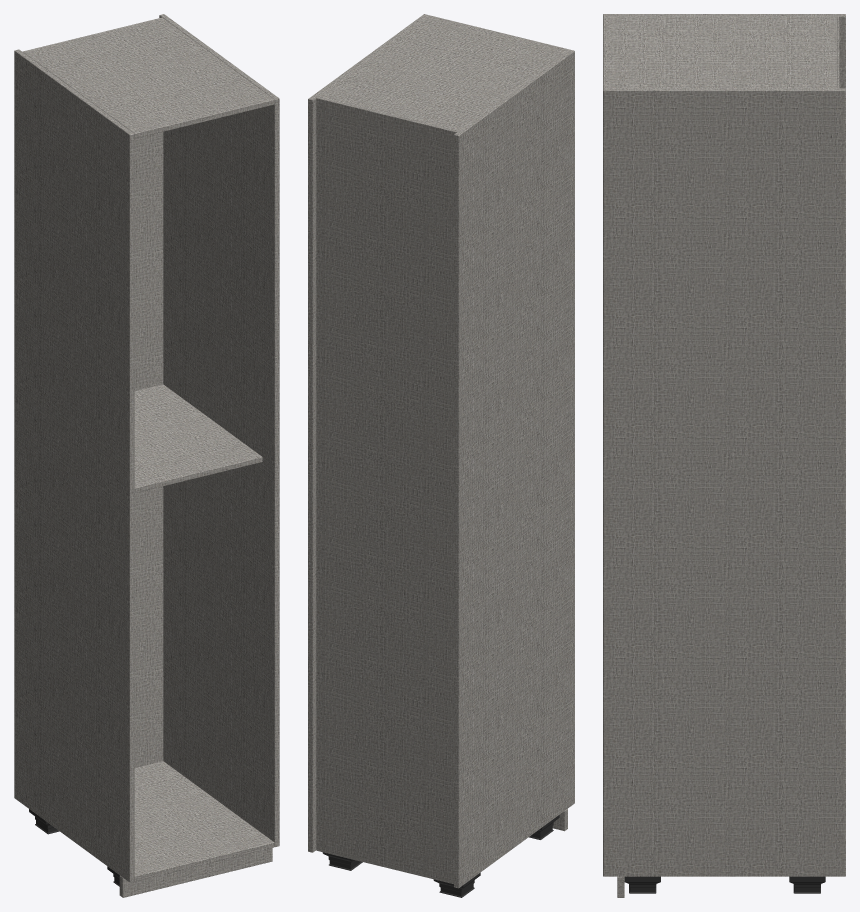
The model's file is cbib12114.gltf.
3 renders of one model, left to right at view 1: azimuth 30°, elevation 25°; view 2: azimuth 150°, elevation 25°; view 3: azimuth 270°, elevation 25°, orthographic. The views are drawn at different scales.
Parts seen in each view (by area): view 1: CBIB12114; view 2: CBIB12114; view 3: CBIB12114.
Part boxes in pixels (x1,y1,x2,y2): CBIB12114: [14, 14, 279, 897]; CBIB12114: [308, 14, 574, 897]; CBIB12114: [603, 14, 845, 897].
Size of the model in its own units: 0.45 by 2.2 by 0.6.
3 materials, 2 textured.
